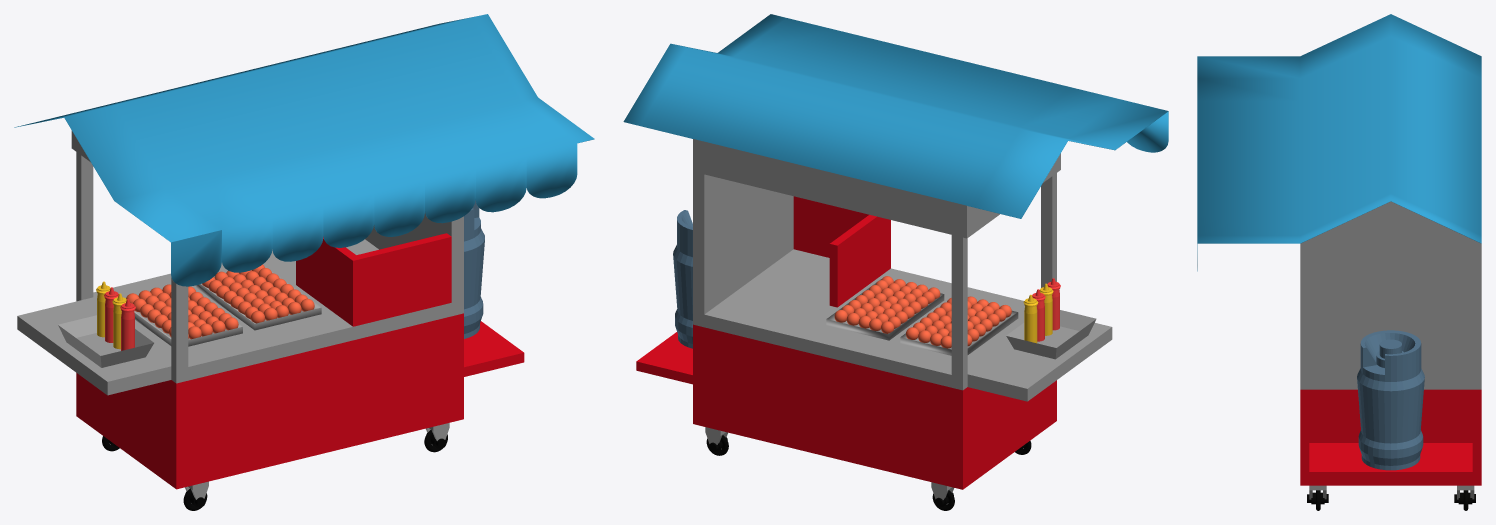
Rendered from kwekkwekss.fbx.
The picture shows the model from 3 angles, left to right: view 1: azimuth 30°, elevation 25°; view 2: azimuth 150°, elevation 25°; view 3: azimuth 270°, elevation 25°; orthographic projection. The views are drawn at different scales.
Parts seen in each view (by area): view 1: Torus.001; view 2: Torus.001; view 3: Torus.001.
Boxes of the visible parts, bbox=[...] form: Torus.001: bbox=[14, 14, 594, 510]; Torus.001: bbox=[623, 14, 1168, 510]; Torus.001: bbox=[1197, 14, 1481, 510].
Size of the model in its own units: 1491 by 1292 by 953.
